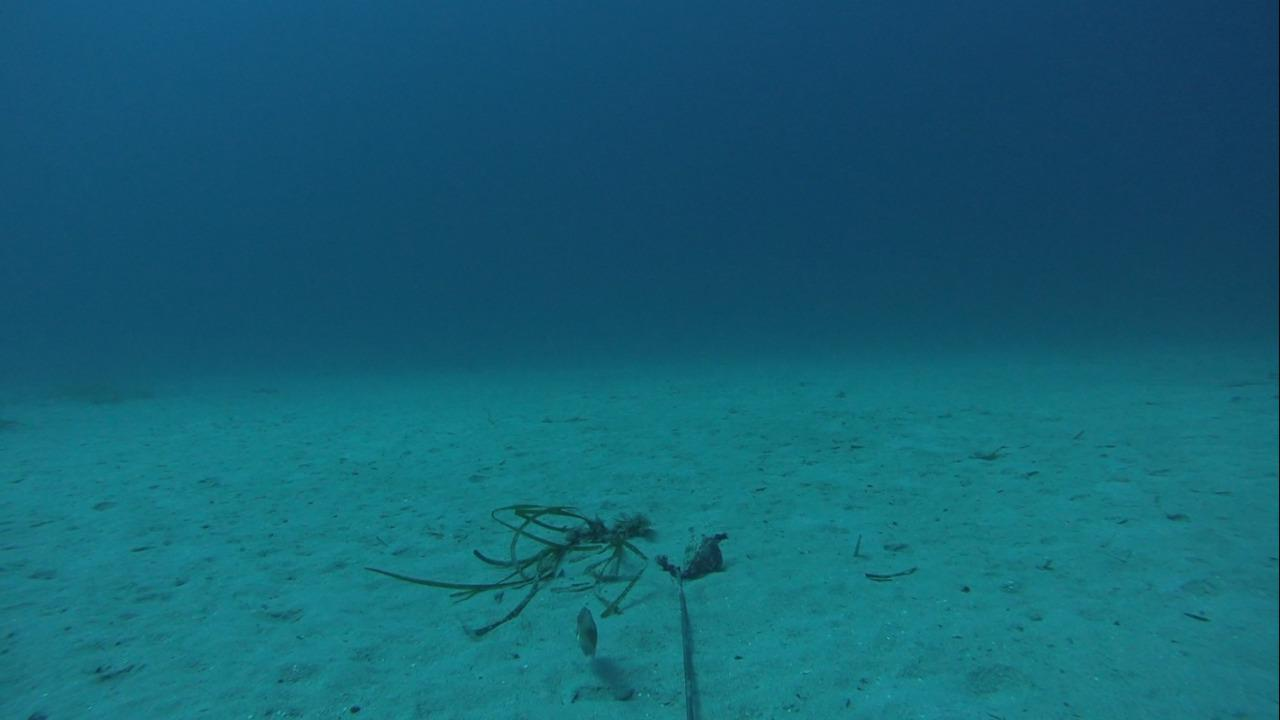raor: (565, 597, 610, 666)
